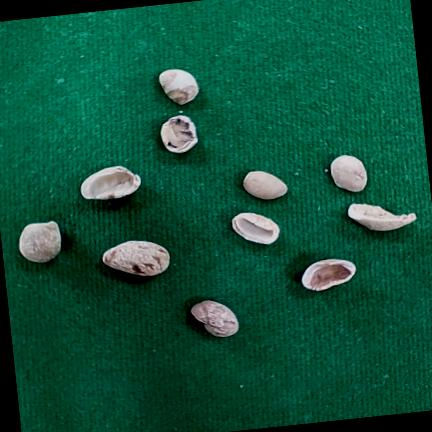shell: (102, 241, 169, 276), (81, 166, 140, 200), (348, 204, 417, 231), (191, 300, 239, 337), (19, 221, 61, 263), (301, 259, 356, 291), (232, 212, 280, 244), (159, 69, 199, 105), (161, 115, 198, 153), (330, 155, 367, 192), (243, 171, 287, 199)
